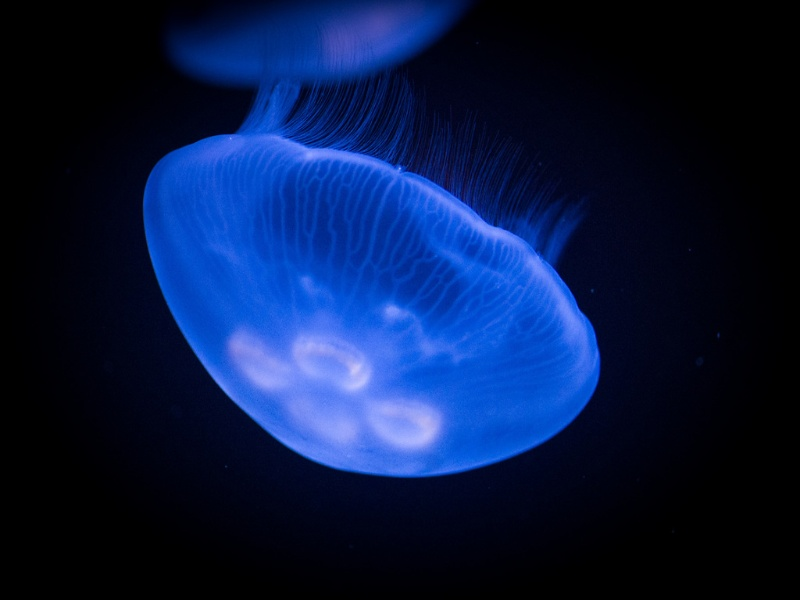Jellyfish: (141, 64, 626, 507)
